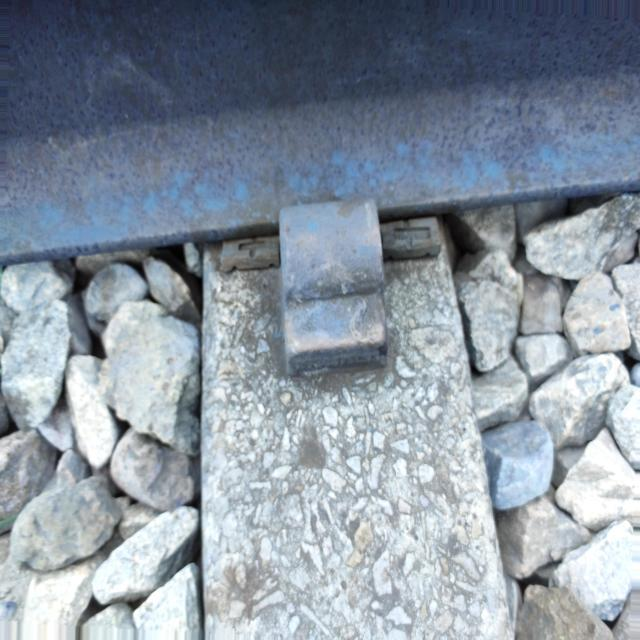Missing Fastener: (238, 156, 438, 399)
